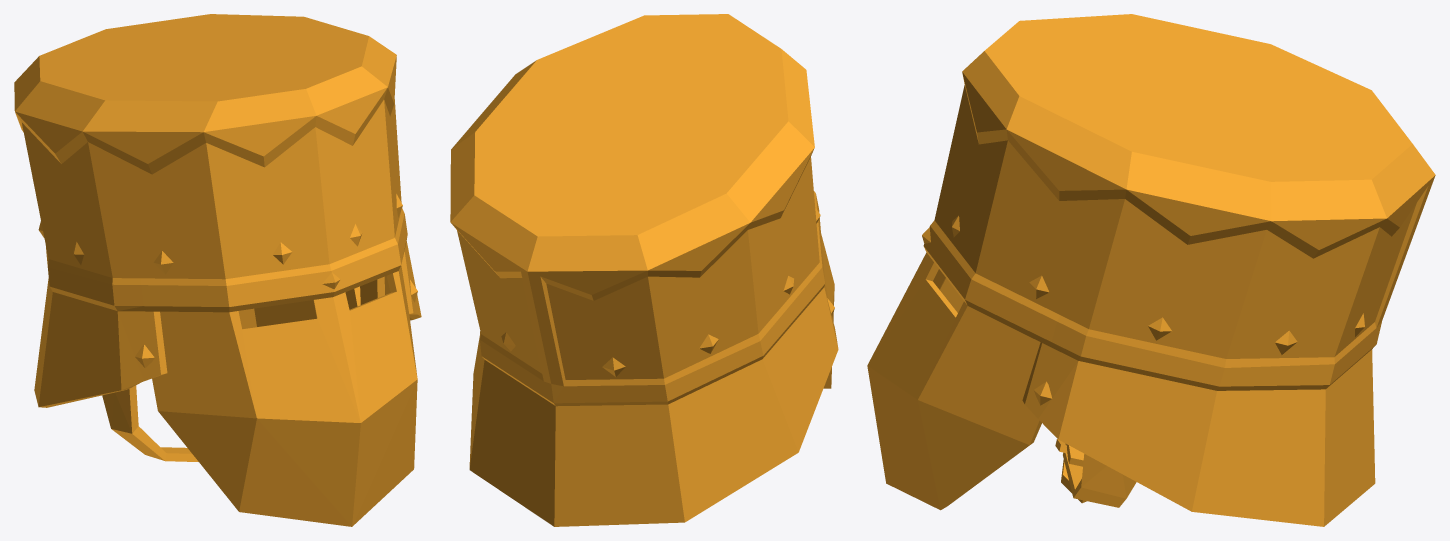
File: SM_Helmet_Great_Helm_B_Placed.fbx
3 renders of one model, left to right at view 1: azimuth 30°, elevation 25°; view 2: azimuth 150°, elevation 25°; view 3: azimuth 270°, elevation 25°, orthographic. The views are drawn at different scales.
Visible parts, largest first — view 1: helmet-great-helm-b-placed; view 2: helmet-great-helm-b-placed; view 3: helmet-great-helm-b-placed.
Boxes of the visible parts, left/top/right/bottom form: helmet-great-helm-b-placed: left=14, top=14, right=421, bottom=526; helmet-great-helm-b-placed: left=450, top=14, right=838, bottom=526; helmet-great-helm-b-placed: left=867, top=14, right=1435, bottom=526.
Size of the model in its own units: 0.2367 by 0.2693 by 0.3191.
